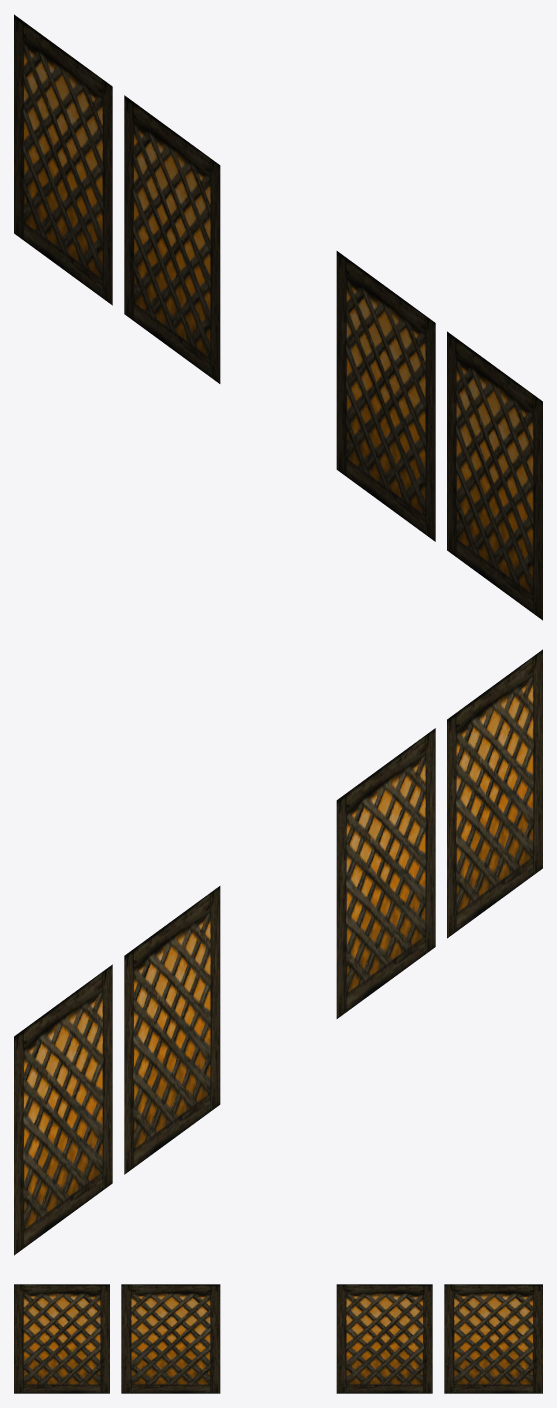
The model's file is LAKETOWN_EXTERIOR_PS_LT_ENT_SIDE_WINDOWS36.fbx.
3 views of the same model, one above another, from view 1: azimuth 30°, elevation 25°; view 2: azimuth 150°, elevation 25°; view 3: azimuth 270°, elevation 25° (orthographic). The views are drawn at different scales.
Parts seen in each view (by area): view 1: LAKETOWN_EXTERIOR_PS_LT_ENT_SIDE_WINDOWS36; view 2: LAKETOWN_EXTERIOR_PS_LT_ENT_SIDE_WINDOWS36; view 3: LAKETOWN_EXTERIOR_PS_LT_ENT_SIDE_WINDOWS36.
Part boxes in pixels (x1,y1,x2,y2): LAKETOWN_EXTERIOR_PS_LT_ENT_SIDE_WINDOWS36: [14, 14, 542, 620]; LAKETOWN_EXTERIOR_PS_LT_ENT_SIDE_WINDOWS36: [14, 649, 542, 1255]; LAKETOWN_EXTERIOR_PS_LT_ENT_SIDE_WINDOWS36: [14, 1284, 542, 1393].
Bounding box in the file's own units: 0.0061 × 13100 × 57333.
Materials: 1 (1 with a texture image).
